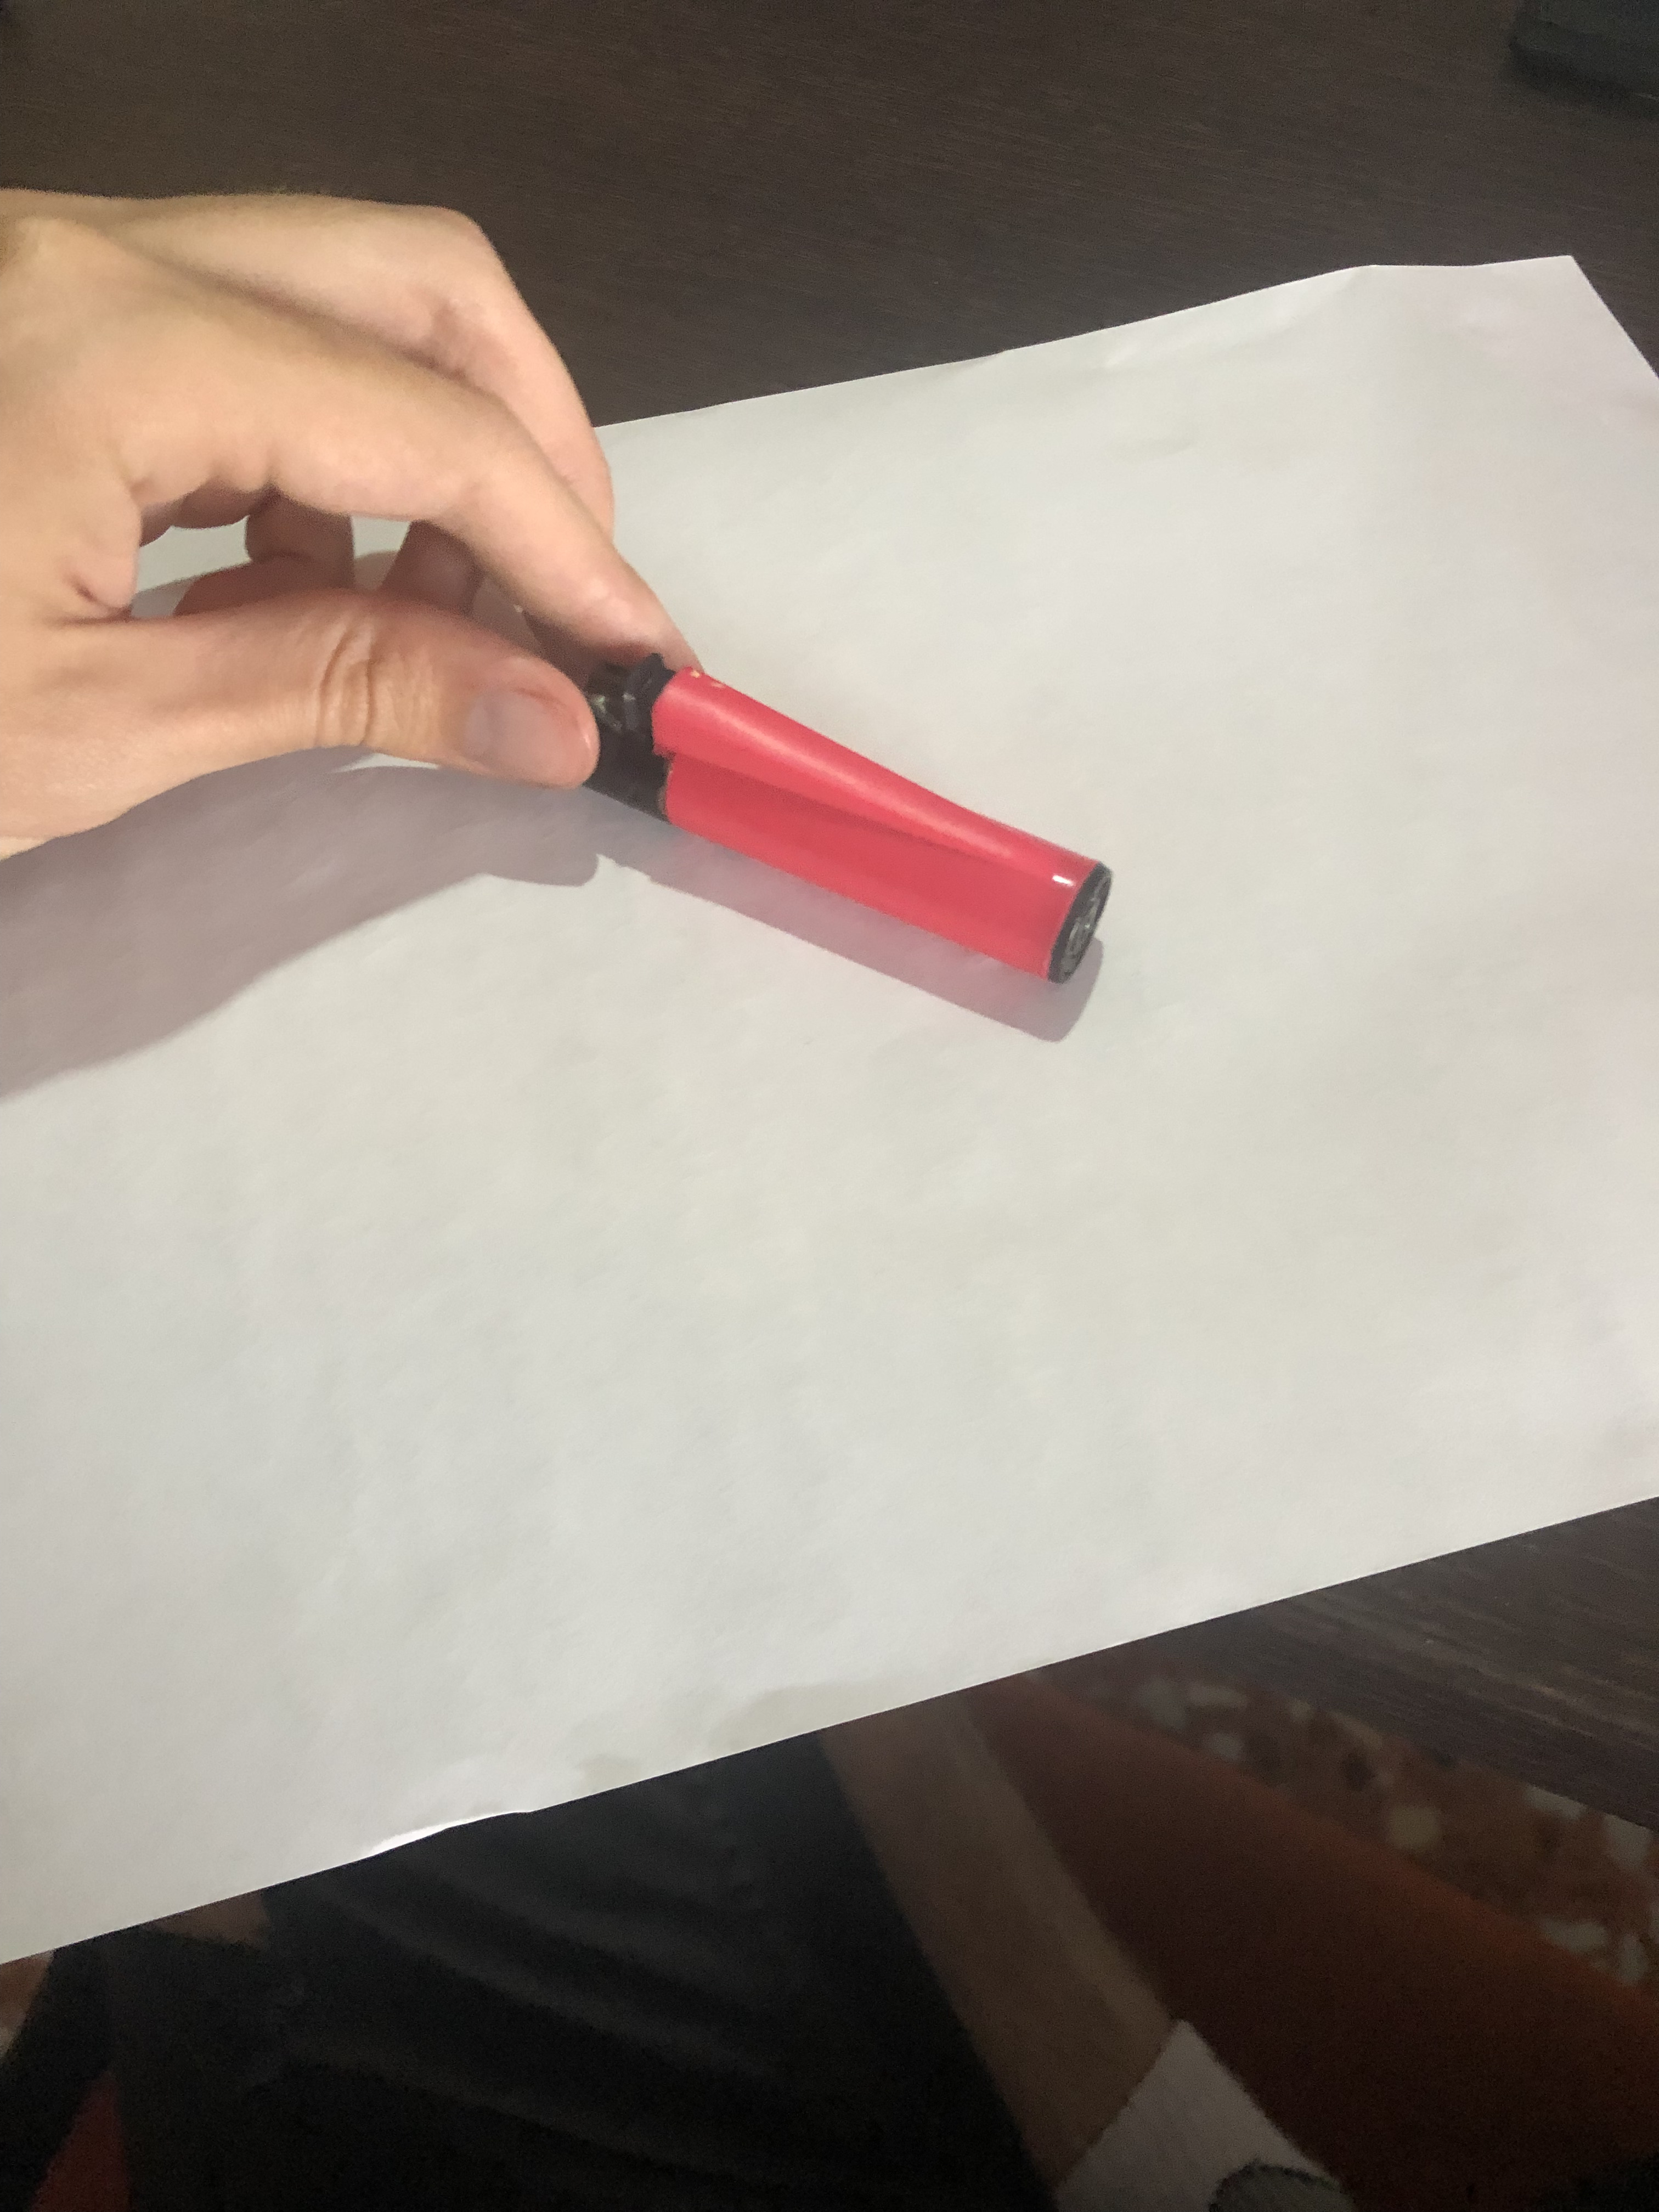Mechero: (579, 620, 1124, 1007)
